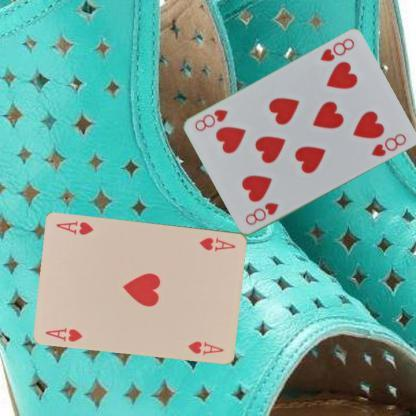8h: (317, 36, 356, 63), (242, 200, 280, 227)
Ah: (43, 324, 84, 343), (197, 234, 237, 252)
